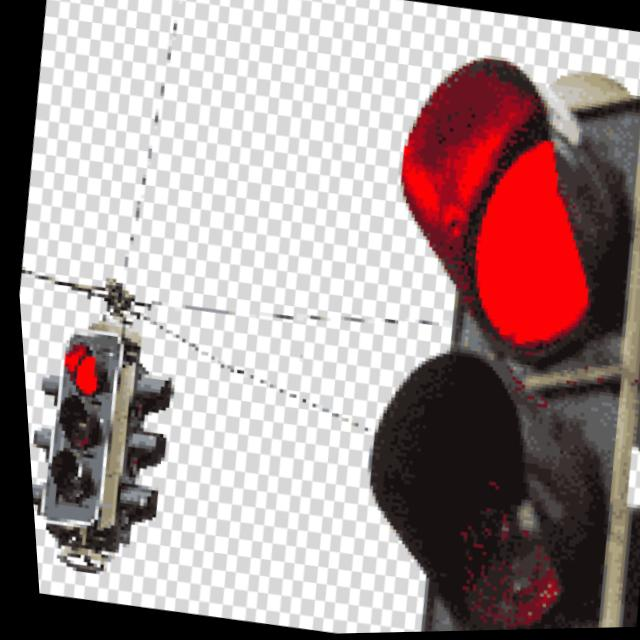red_light: (393, 92, 640, 372)
